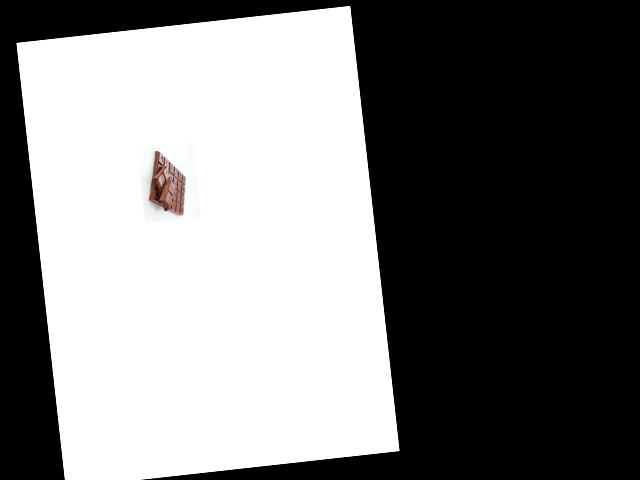chocolate: (140, 147, 193, 219)
